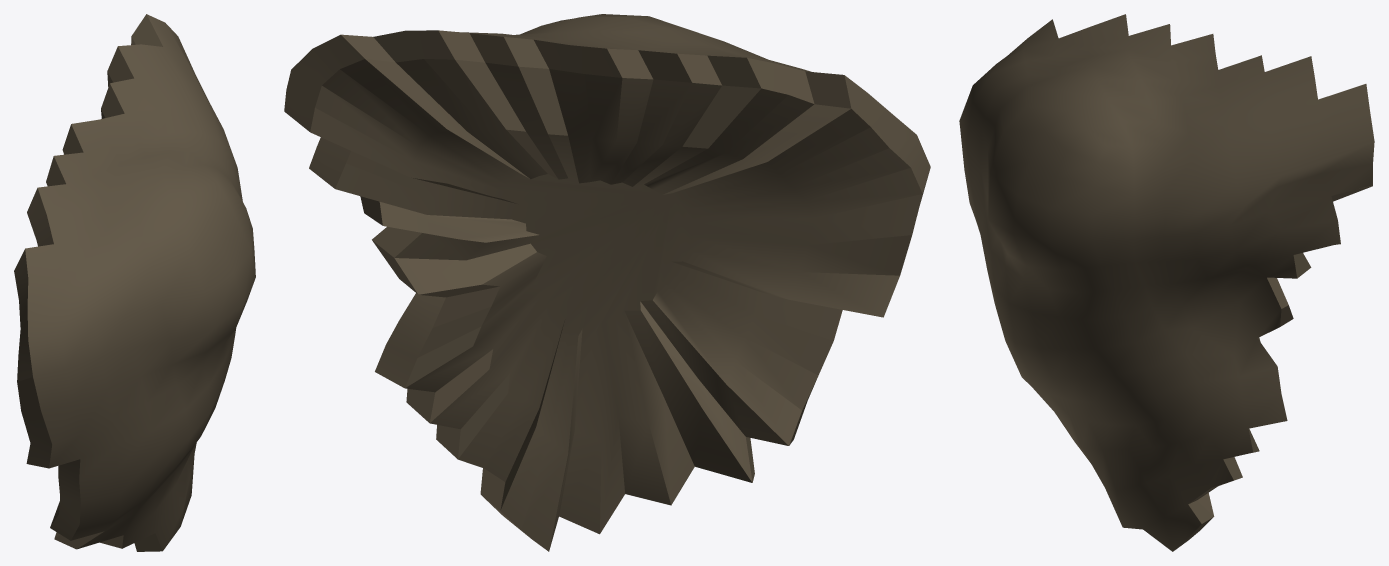
The model's file is DestroyedAsteroid1.fbx.
The picture shows the model from 3 angles, left to right: view 1: azimuth 30°, elevation 25°; view 2: azimuth 150°, elevation 25°; view 3: azimuth 270°, elevation 25°; orthographic projection. The views are drawn at different scales.
Visible parts, largest first — view 1: DestroyedAsteroid2; view 2: DestroyedAsteroid2; view 3: DestroyedAsteroid2.
Boxes of the visible parts, x1=… form: DestroyedAsteroid2: x1=14, y1=14, x2=255, y2=551; DestroyedAsteroid2: x1=284, y1=14, x2=930, y2=551; DestroyedAsteroid2: x1=959, y1=14, x2=1374, y2=551.
Size of the model in its own units: 131 by 166 by 124.
